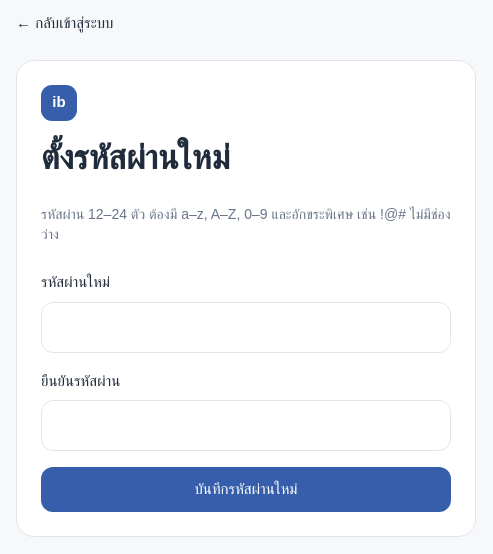
Test: reset reads fragment into memory, removes URL token and submits once
Type "Replacement123!" into the password field labelled "รหัสผ่านใหม่".
click(246, 327); type("Replacement123!")  # box top-left (41, 302), bottom-right (451, 353)
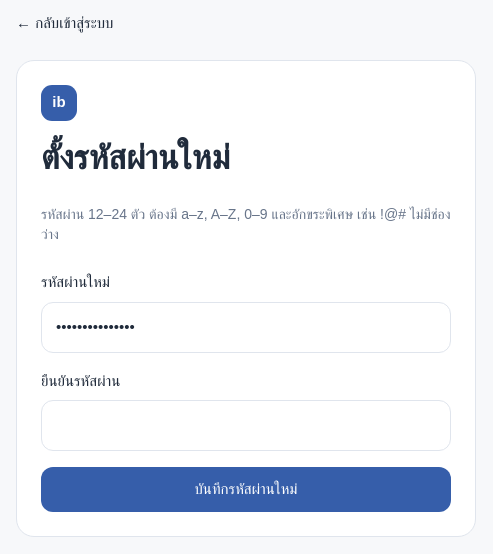
Type "Replacement123!" into the password field labelled "ยืนยันรหัสผ่าน".
click(246, 426); type("Replacement123!")  # box top-left (41, 400), bottom-right (451, 451)
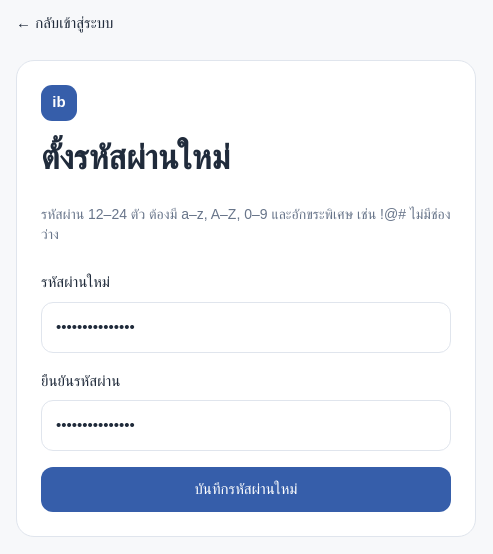
Click the button "บันทึกรหัสผ่านใหม่".
click(246, 489)  # box top-left (41, 467), bottom-right (451, 512)
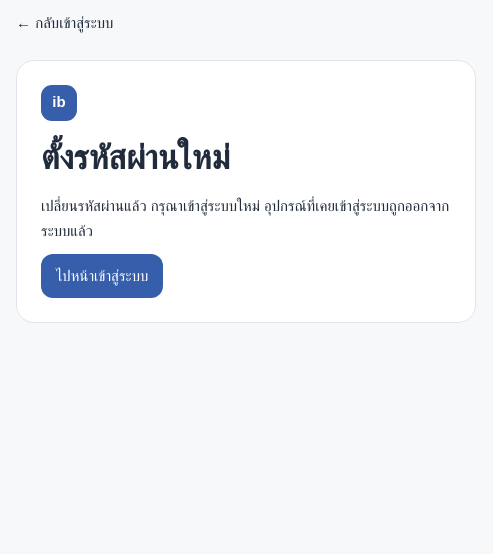
Check: the message shows "เปลี่ยนรหัสผ่านแล้ว", box top-left (41, 197), bottom-right (449, 239)
